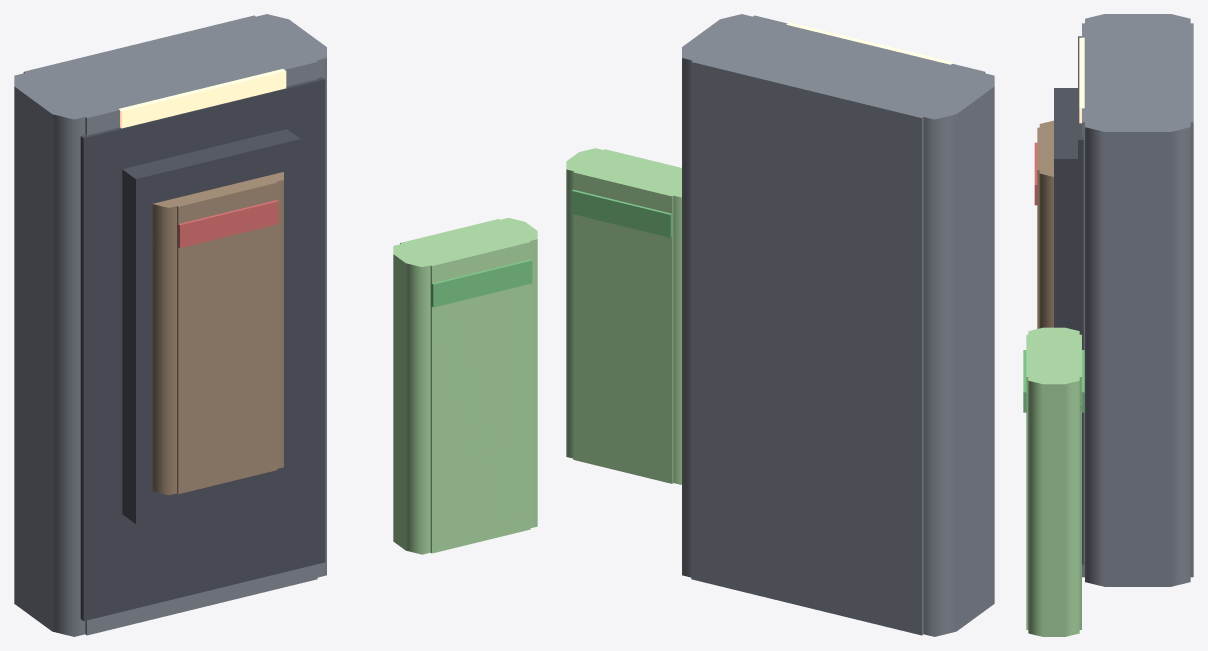
File: prop_co2_filter_slot.glb
3 views of the same model, side by side, from view 1: azimuth 30°, elevation 25°; view 2: azimuth 150°, elevation 25°; view 3: azimuth 270°, elevation 25° (orthographic). The views are drawn at different scales.
Visible parts, largest first — view 1: prop_co2_filter_slot, filter_new, filter_old, saturation_gauge; view 2: prop_co2_filter_slot, filter_new, saturation_gauge; view 3: prop_co2_filter_slot, filter_new, filter_old, saturation_gauge.
Part boxes in pixels (<box>): prop_co2_filter_slot: <box>14,14,326,636</box>; filter_new: <box>393,218,537,554</box>; filter_old: <box>152,172,283,495</box>; saturation_gauge: <box>119,69,286,128</box>; prop_co2_filter_slot: <box>682,14,994,636</box>; filter_new: <box>566,148,681,484</box>; saturation_gauge: <box>786,22,953,64</box>; prop_co2_filter_slot: <box>1054,14,1193,586</box>; filter_new: <box>1023,327,1084,636</box>; filter_old: <box>1034,120,1053,328</box>; saturation_gauge: <box>1079,37,1084,123</box>.
Bounding box in the file's own units: 0.82 × 0.9 × 0.305.
